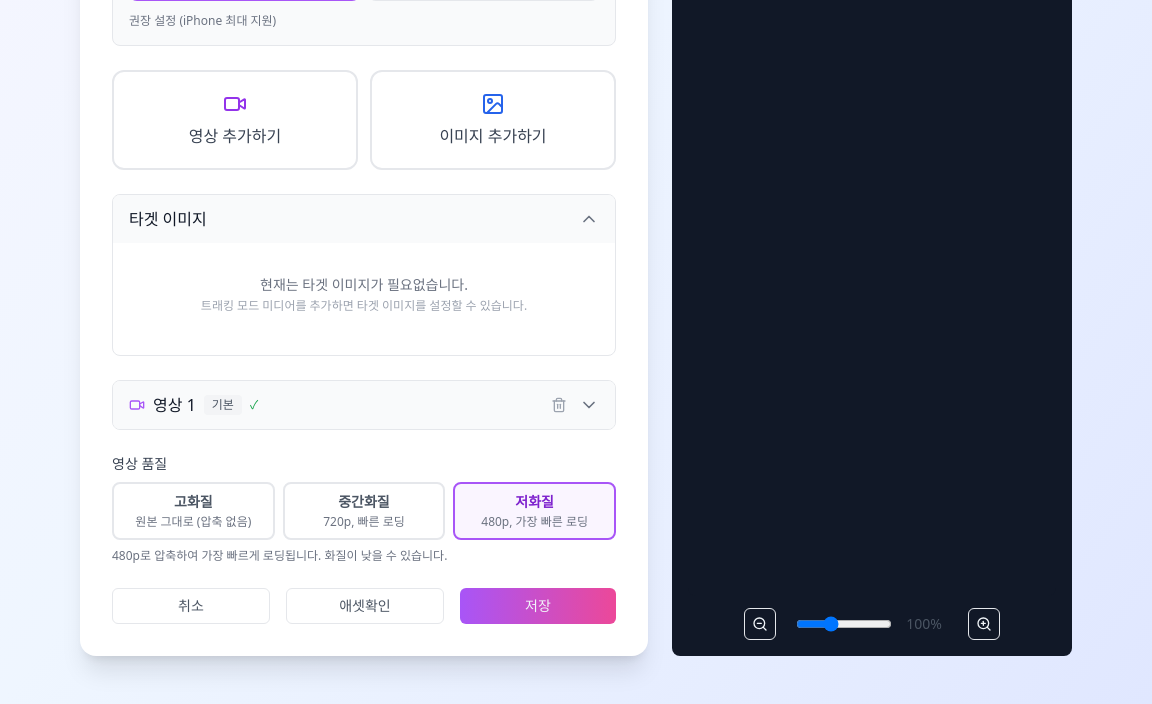
Test case: EditProjectPage › Password Modal › should open password modal when save is clicked
The image size is (1152, 704).
(page scrolled)
Click the button "저장" at (538, 606), box [460,588,616,624]
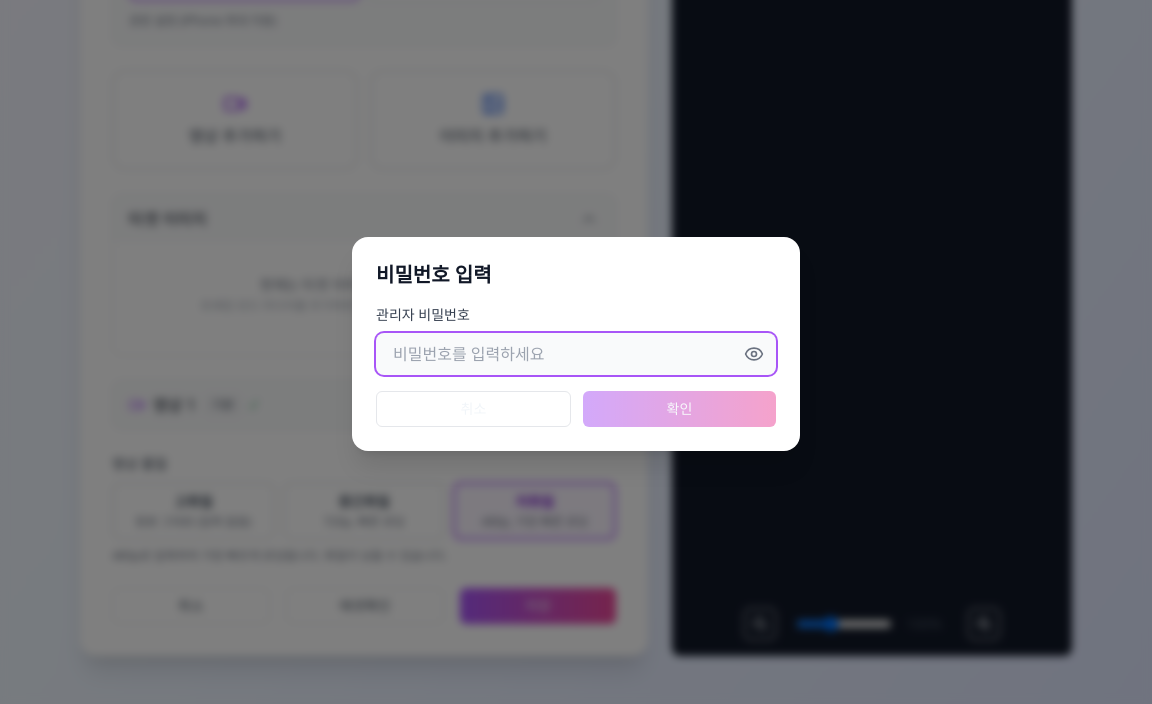
Expected: the heading "비밀번호 입력" is shown, [376,261,492,288]
